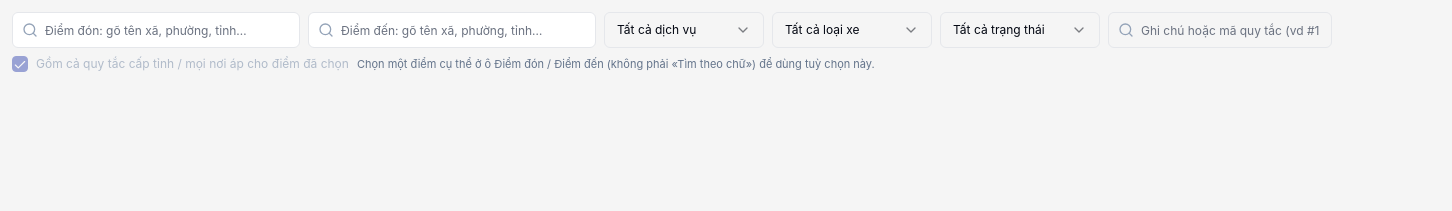
Scenario: MacroSearchBar — «Xoá lọc» › CHƯA lọc gì nhưng ô điểm có chữ gõ dở (chưa chọn) ⇒ vẫn hiện «Xoá lọc»; bấm ⇒ dựng lại ô, mất chữ, hết dòng vàng
The width and height of the screenshot is (1452, 211).
Expected: the button "Xoá lọc" is not shown
Type "huyen Soc Son" into the dropdown named "Điểm đón: tìm phường/xã, tỉnh hoặc điểm đặc biệt" at (156, 30), box [12,12,300,48]
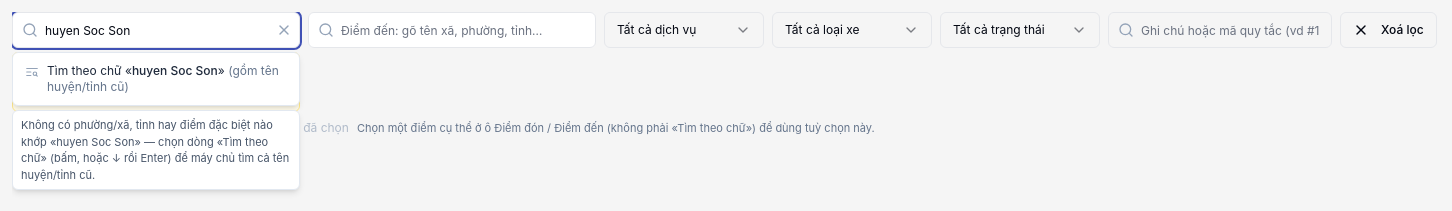
Type "phu" into the dropdown named "Điểm đến: tìm phường/xã, tỉnh hoặc điểm đặc biệt" at (452, 30), box [308,12,596,48]
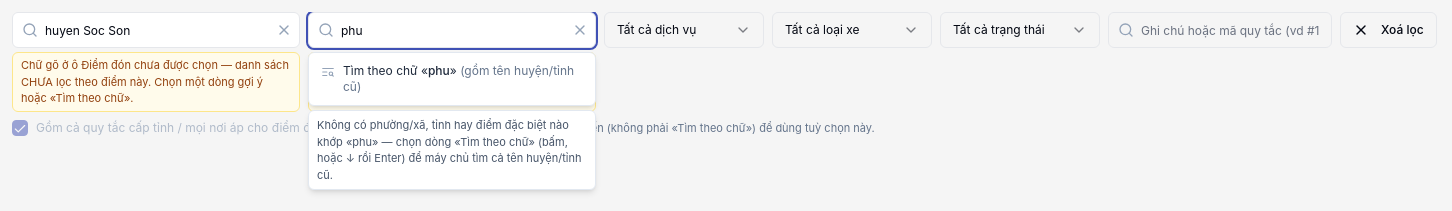
Click the field labelled "Ghi chú hoặc mã quy tắc" at (1220, 30), box [1108,12,1332,48]
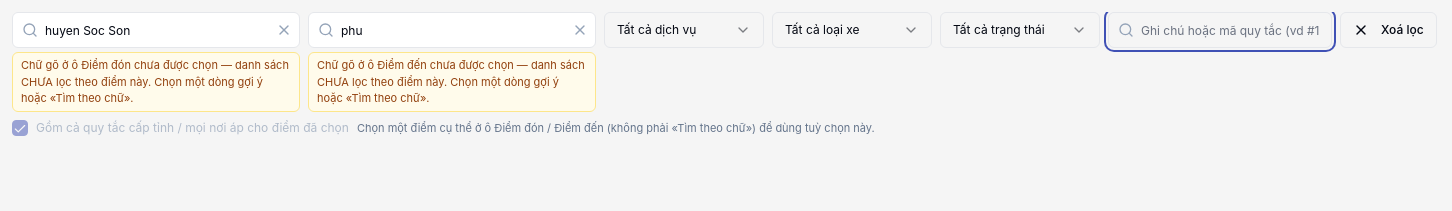
Expected: the message with test id "place-picker-pending-Điểm đón" shows "chưa được chọn", [21,58,289,105]
Expected: the message with test id "place-picker-pending-Điểm đến" shows "chưa được chọn", [317,58,585,105]
Expected: the button "Xoá lọc" is shown
Click the button "Xoá lọc" at (1388, 30), box [1340,12,1437,48]
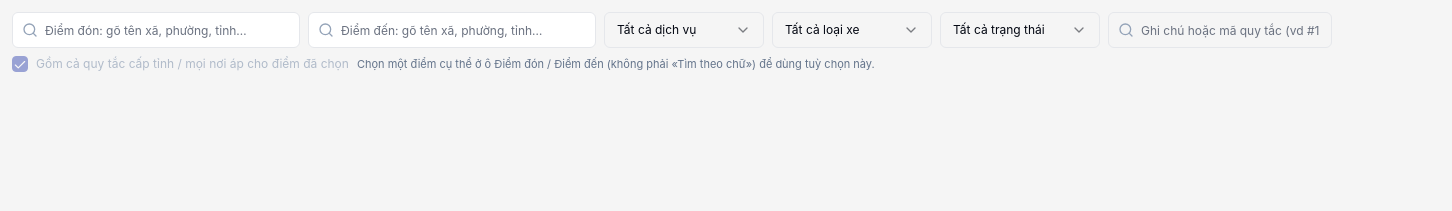
Expected: the dropdown named "Điểm đón: tìm phường/xã, tỉnh hoặc điểm đặc biệt" is empty, [12,12,300,48]
Expected: the dropdown named "Điểm đến: tìm phường/xã, tỉnh hoặc điểm đặc biệt" is empty, [308,12,596,48]
Expected: the button "Xoá lọc" is gone
